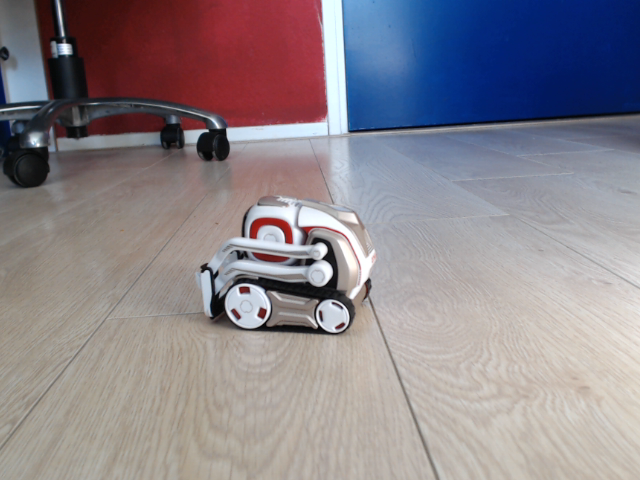cozmo: (192, 193, 379, 339)
